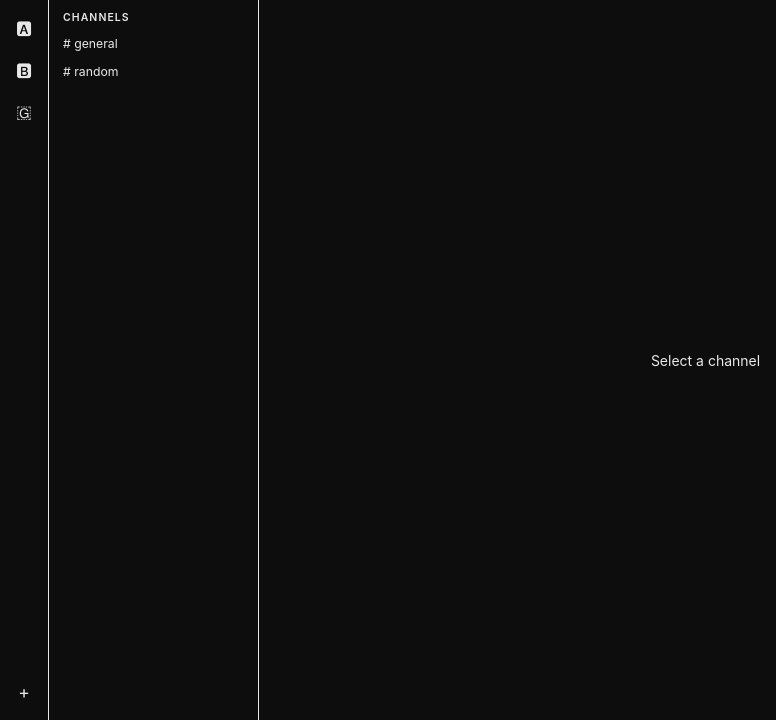
Test: Workspace switcher › clicking a workspace icon updates the channel sidebar to show that workspace's channels
The image size is (776, 720).
Expected: the link "# general" is shown, left=63, top=36, right=118, bottom=51
Note: Click on Beta workspace
Click the link named "Beta": [24, 69] box left=16, top=59, right=32, bottom=80
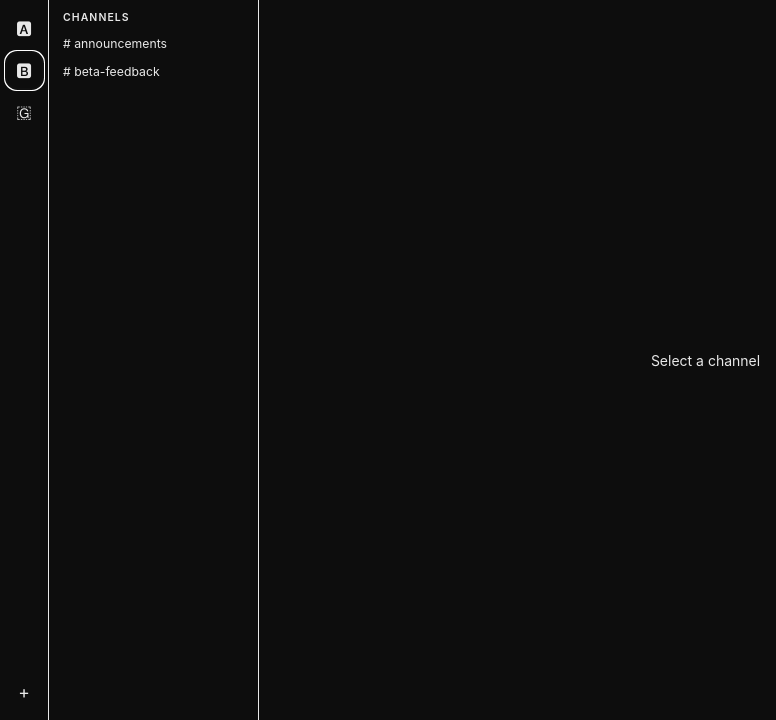
Expected: the link "# announcements" is shown, left=63, top=36, right=167, bottom=51
Expected: the link "# beta-feedback" is shown, left=63, top=64, right=160, bottom=79
Expected: the link "# general" is gone
